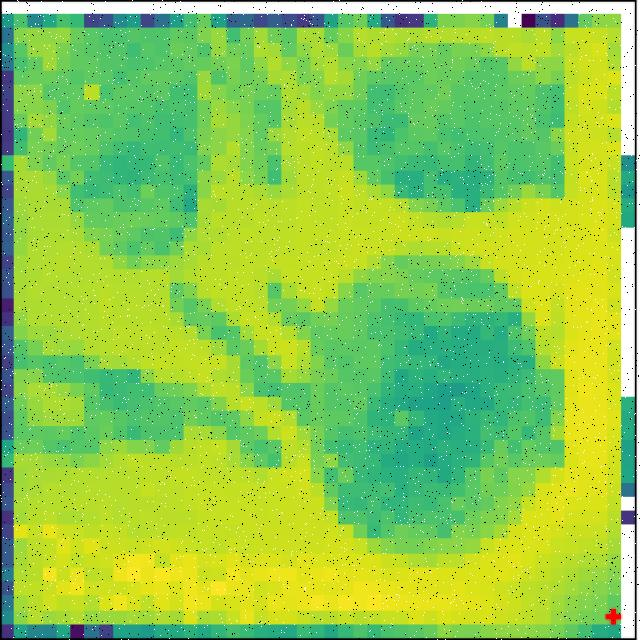Concrete: (357, 56, 538, 196)
Glass: (60, 42, 194, 248)
Metal: (340, 280, 525, 510)
Wood: (96, 375, 188, 456)
